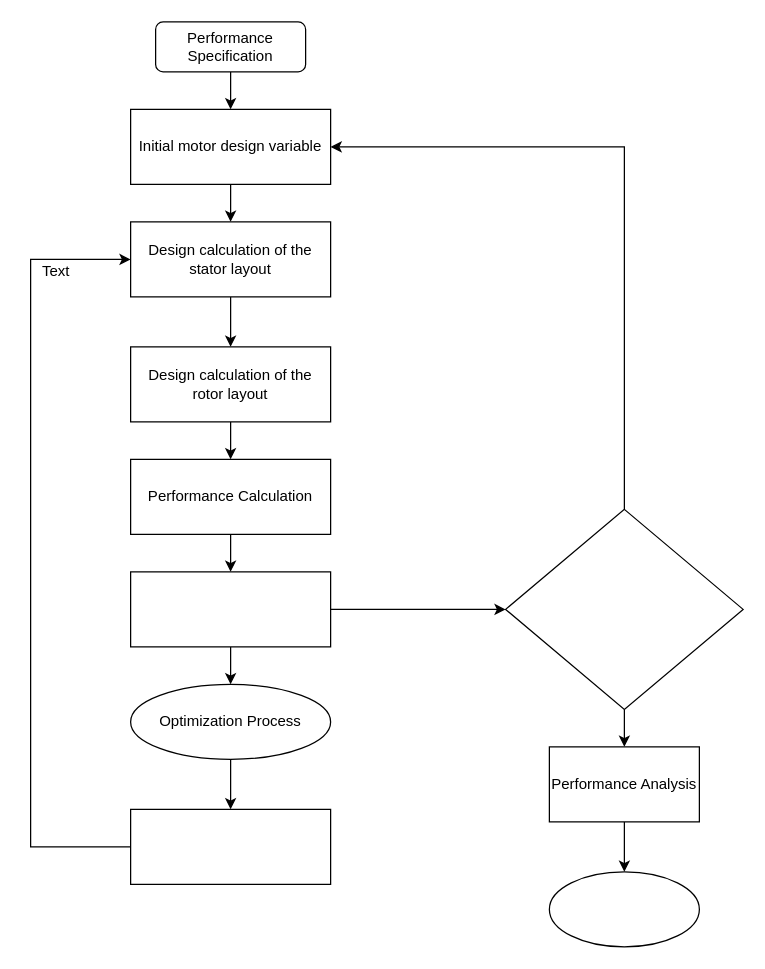
This 765x969 diagram has some shape labels left out. The centre of each missing label's shape, as x and y in pixels:
END: the point at 623,909
Optimum design achieved: the point at 623,608
Test Convergence: the point at 230,609
Update design variable: the point at 230,846
